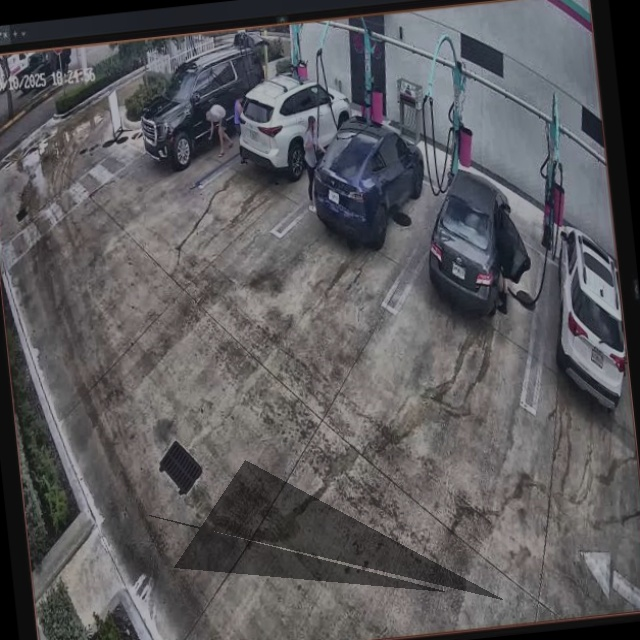Car: (136, 45, 273, 168), (422, 169, 533, 320), (311, 109, 431, 248), (235, 68, 360, 179)
